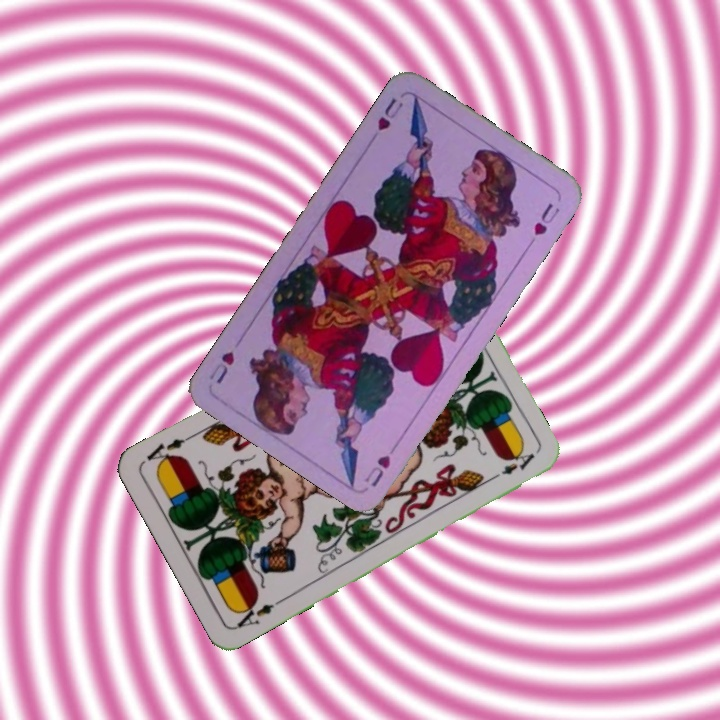EA: (230, 597, 276, 632)
HU: (360, 437, 402, 490), (373, 94, 406, 133)
